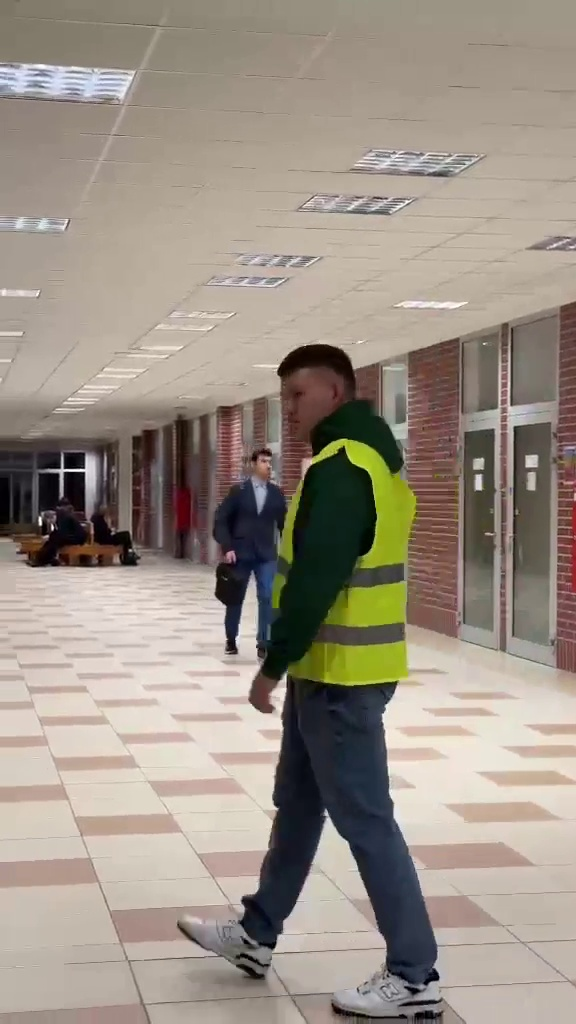no vest: (205, 437, 283, 647)
vest: (268, 344, 439, 1005)
